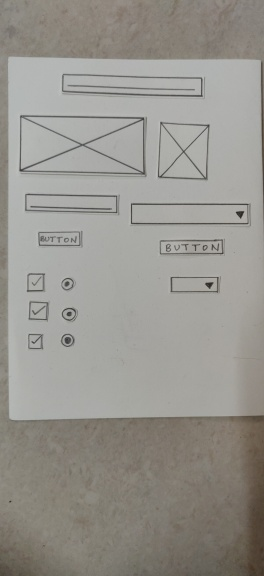button: (155, 236, 228, 255), (32, 226, 83, 248)
checkbox: (26, 267, 46, 295), (26, 331, 46, 354), (31, 302, 46, 321)
dropdown: (133, 203, 255, 229), (162, 273, 226, 295)
img: (21, 117, 145, 177), (160, 120, 209, 179)
radio: (57, 329, 84, 356), (57, 270, 76, 297), (60, 305, 82, 326)
text: (64, 72, 206, 97), (22, 190, 124, 215)
